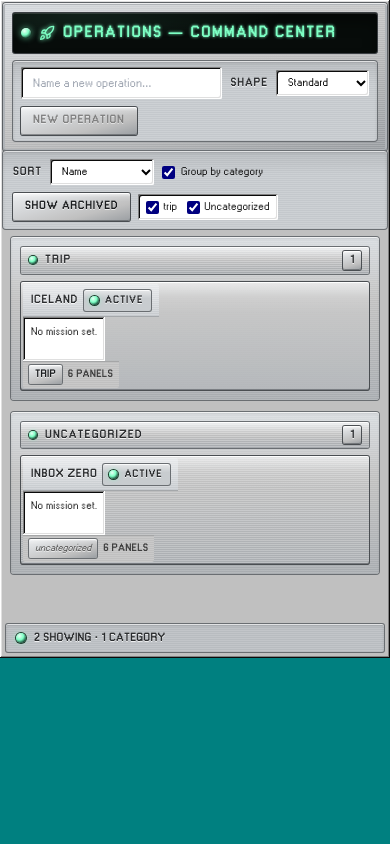
Test: OperationsView › filters by category checkbox and can hide the uncategorized bucket
The image size is (390, 844).
What coordinates should you click on to do the following:
click the checkbox labelled "Uncategorized"
I would click on:
 (194, 207)
Its box is x1=187 y1=200 x2=200 y2=214.
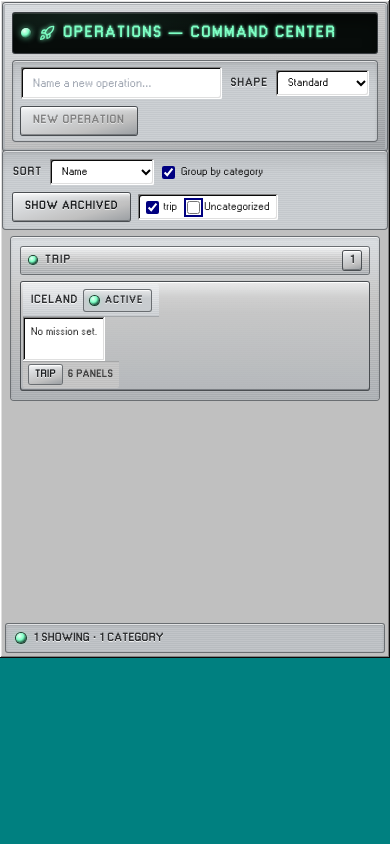
Expected: the button "Inbox zero" is gone
What coordinates should you click on to do the following:
click the checkbox labelled "trip"
I would click on:
 (153, 207)
Its box is x1=146 y1=200 x2=159 y2=214.
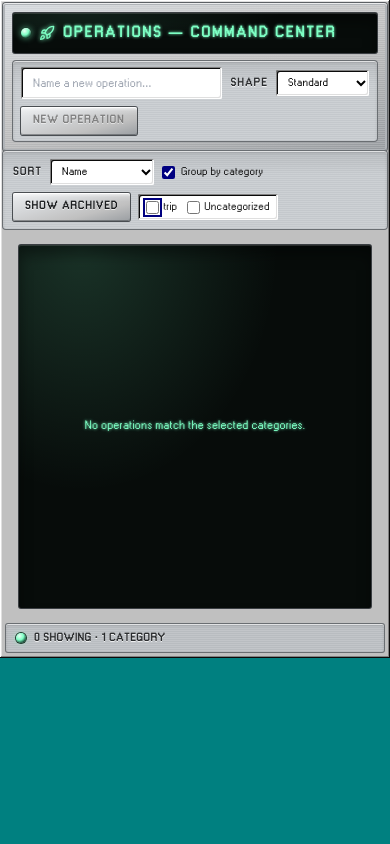
Expected: the text "No operations match the selected categories." is shown, x1=85 y1=417 x2=305 y2=435
